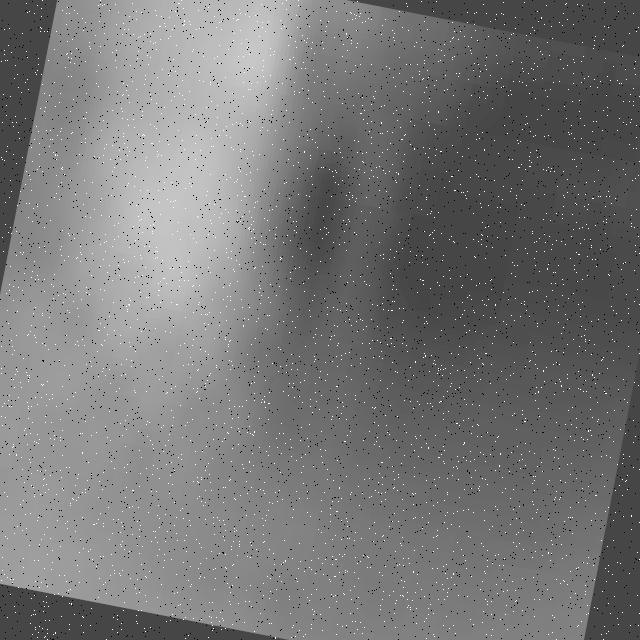person: (1, 1, 310, 427)
